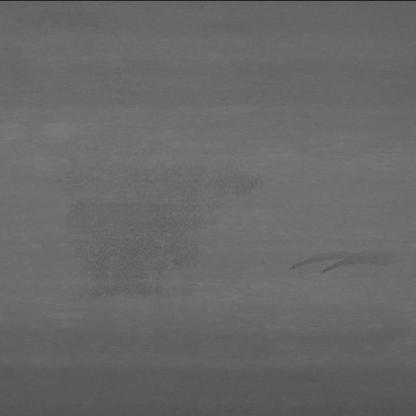water_spot: (281, 248, 387, 279)
